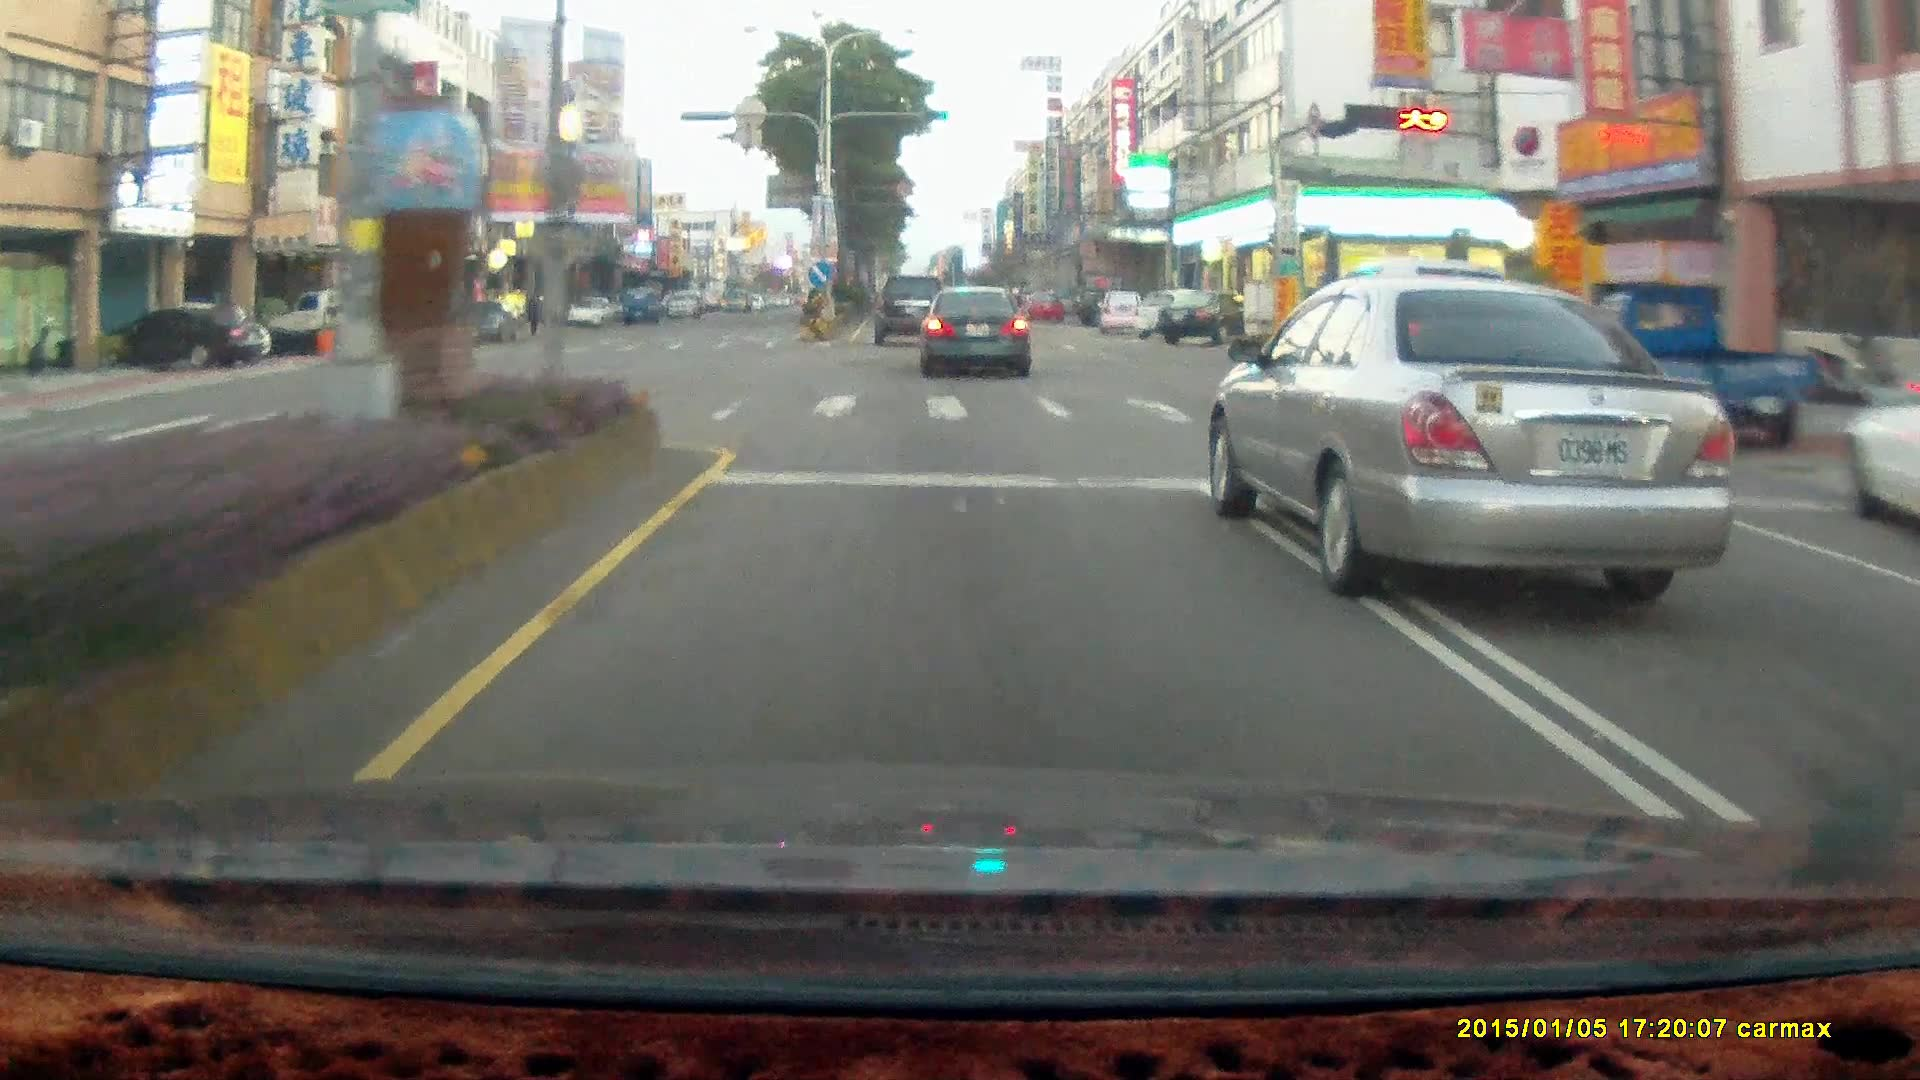pedestrian: (520, 292, 541, 339)
vehicle: (1204, 273, 1733, 588), (1563, 279, 1809, 447), (1569, 281, 1810, 451), (1310, 261, 1550, 419), (1836, 355, 1919, 544), (921, 285, 1033, 381), (92, 305, 263, 367), (919, 283, 1030, 377), (122, 303, 270, 368), (262, 289, 405, 354), (278, 291, 409, 359), (873, 272, 954, 349), (1157, 287, 1263, 342), (875, 273, 951, 344), (1162, 291, 1252, 348), (1131, 290, 1203, 339), (1071, 286, 1130, 326), (453, 304, 517, 342), (1093, 288, 1145, 332), (1098, 290, 1146, 336), (567, 295, 614, 326), (623, 289, 658, 321), (1023, 290, 1060, 321), (659, 289, 692, 314)
